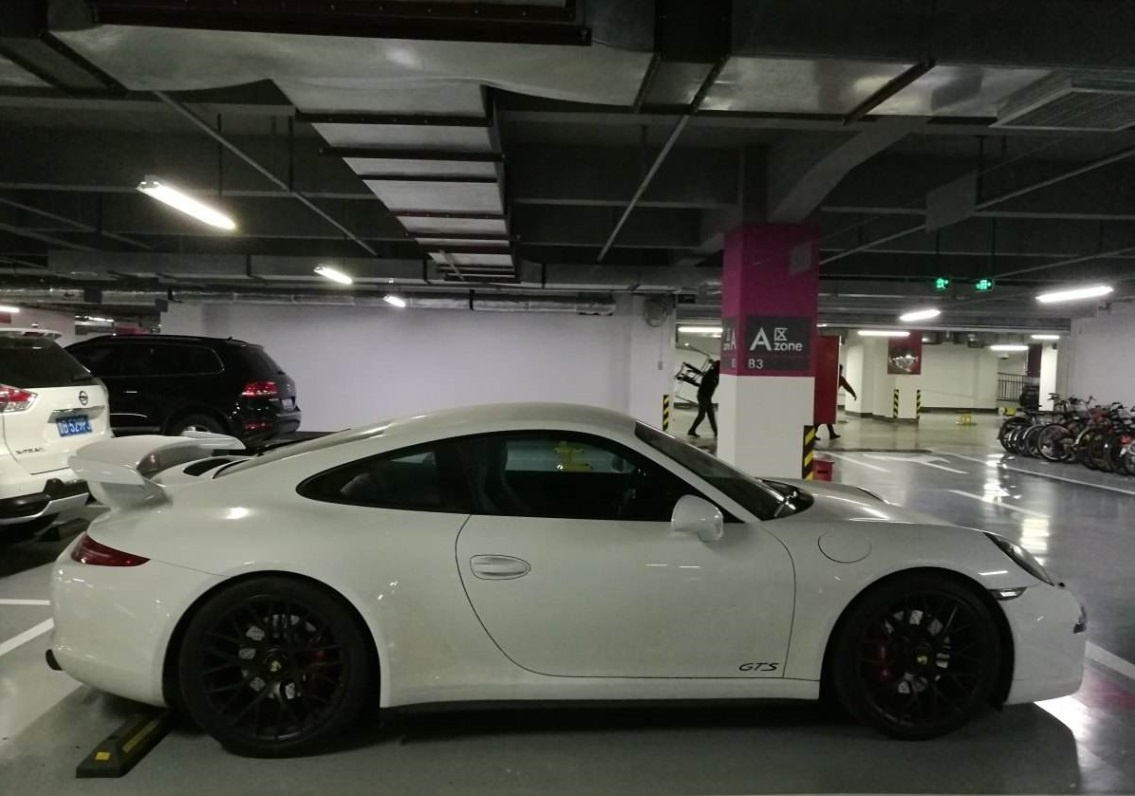family sedan: (48, 375, 1113, 733)
